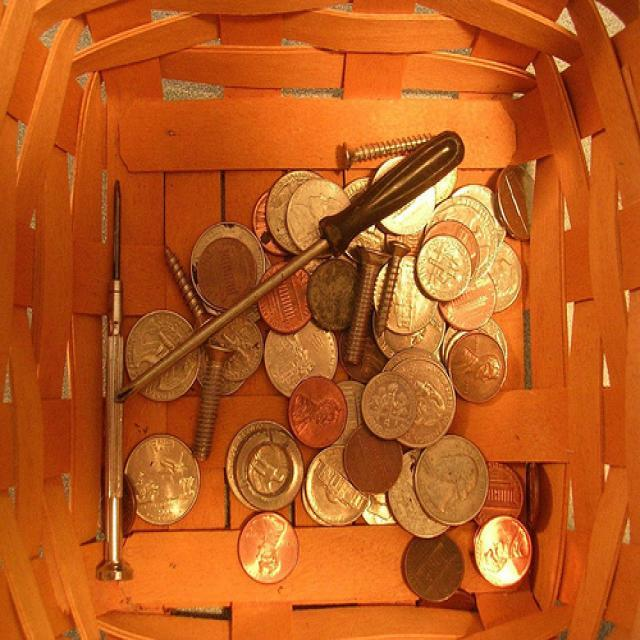screwdriver: (105, 124, 475, 414), (88, 172, 140, 594)
